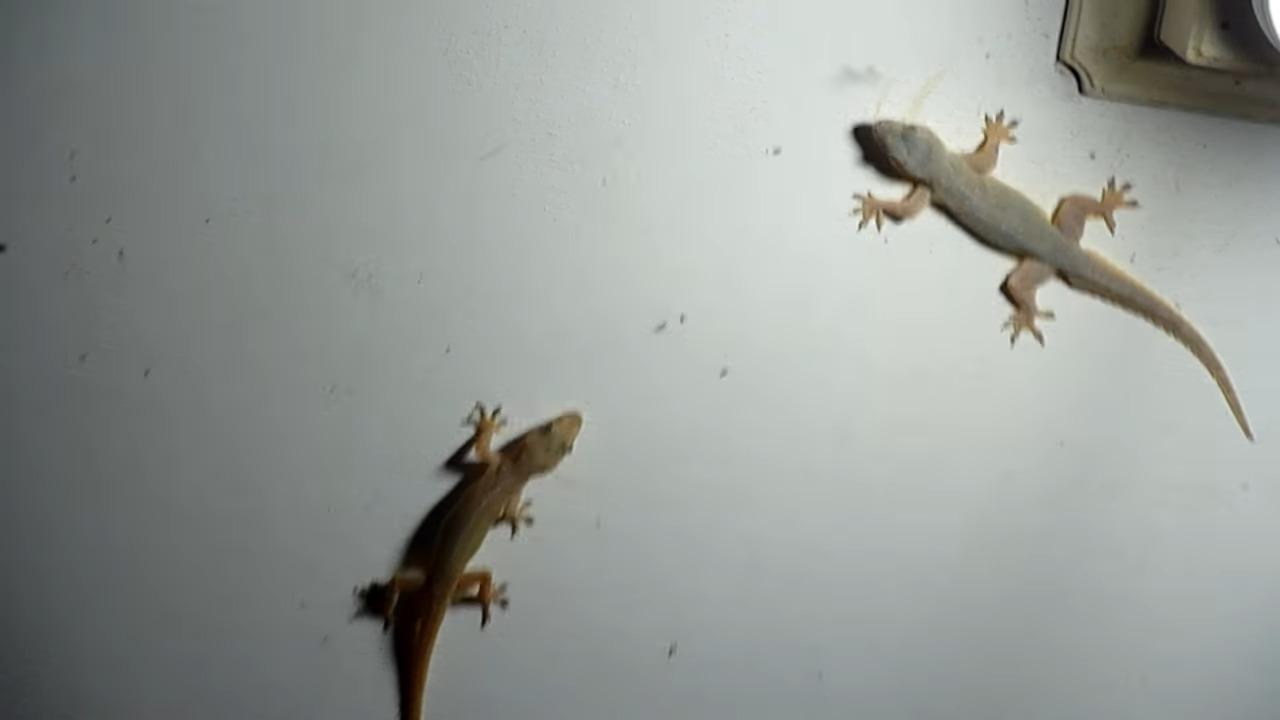lizard: (832, 95, 1250, 443), (352, 375, 584, 720)
